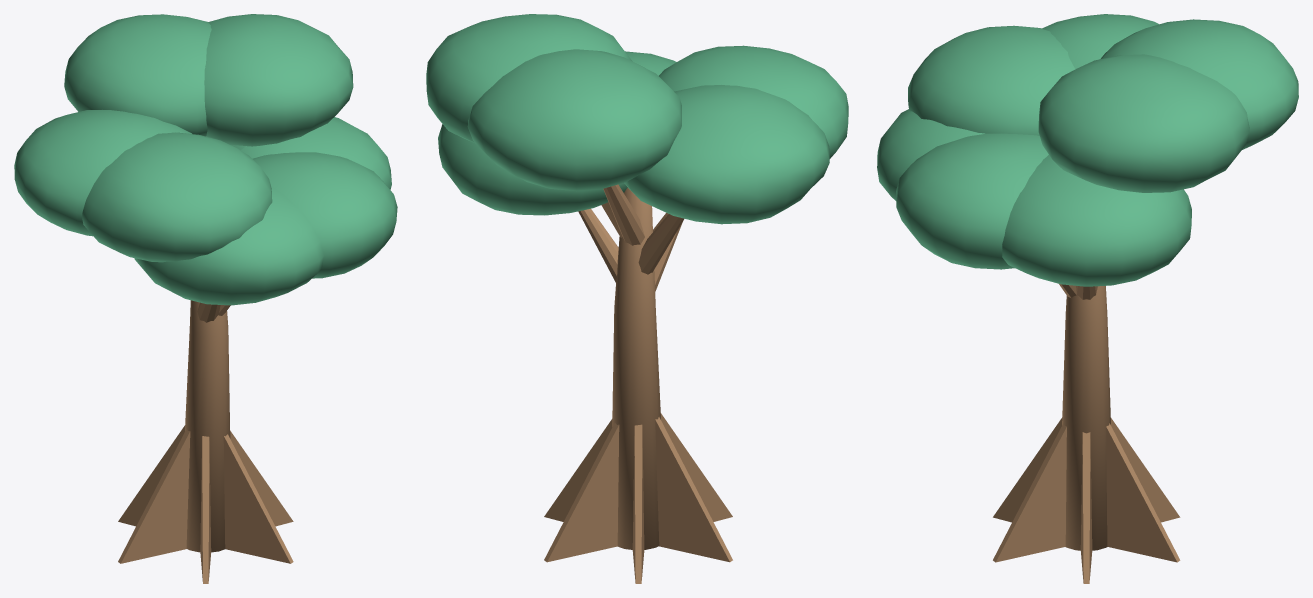
File: buttressed_emergent_tree_tropical_island_and_palm_trees_6818.glb
3 views of the same model, side by side, from view 1: azimuth 30°, elevation 25°; view 2: azimuth 150°, elevation 25°; view 3: azimuth 270°, elevation 25° (orthographic). The views are drawn at different scales.
Parts seen in each view (by area): view 1: buttressed-emergent; view 2: buttressed-emergent; view 3: buttressed-emergent.
Part boxes in pixels (<box>): buttressed-emergent: <box>14,14,397,583</box>; buttressed-emergent: <box>426,14,848,583</box>; buttressed-emergent: <box>877,14,1298,583</box>.
Bounding box in the file's own units: 8.61 × 11.29 × 8.5.
